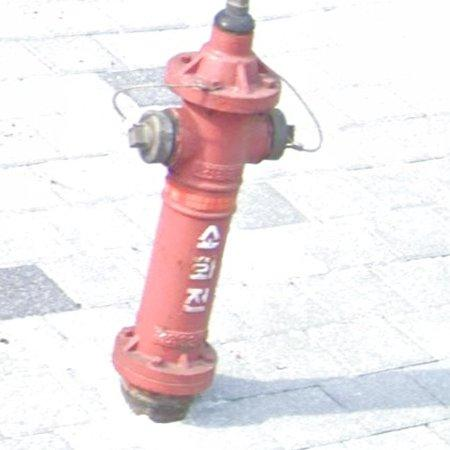a fire hydrant: (113, 0, 294, 423)
